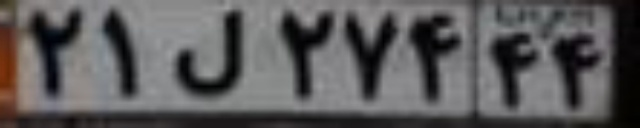1: (98, 8, 134, 94)
2: (280, 9, 336, 100), (27, 5, 82, 96)
4: (410, 12, 460, 100), (484, 31, 537, 108), (551, 34, 602, 110)
7: (337, 8, 402, 101)
lam: (166, 8, 249, 95)
